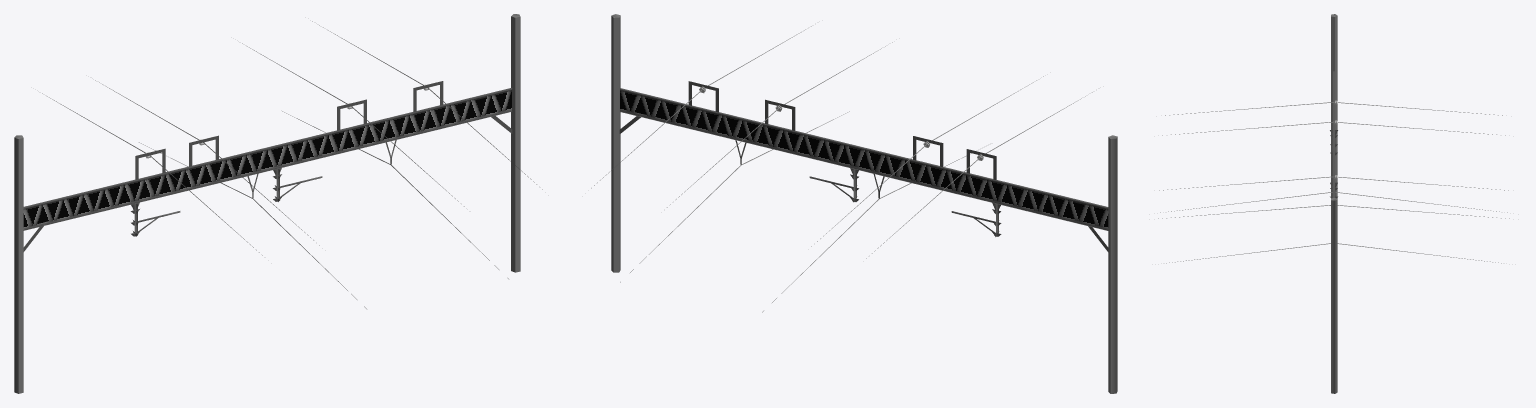
Rendered from KASENCHU_4RAIL.glb.
3 renders of one model, left to right at view 1: azimuth 30°, elevation 25°; view 2: azimuth 150°, elevation 25°; view 3: azimuth 270°, elevation 25°, orthographic. The views are drawn at different scales.
Visible parts, largest first — view 1: obj11; view 2: obj11; view 3: obj11.
Boxes of the visible parts, bbox=[...] form: obj11: bbox=[14, 14, 542, 393]; obj11: bbox=[591, 14, 1117, 393]; obj11: bbox=[1158, 14, 1509, 393].
Size of the model in its own units: 58.9 by 28.39 by 50.
3 materials, 3 textured.
